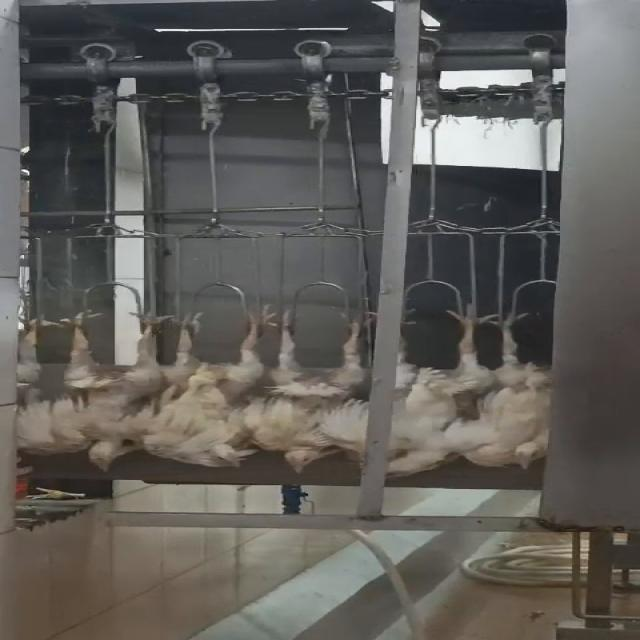chicken: (238, 304, 389, 473), (379, 304, 501, 483), (65, 310, 178, 477), (154, 302, 266, 468), (462, 304, 566, 476), (0, 304, 85, 464)
